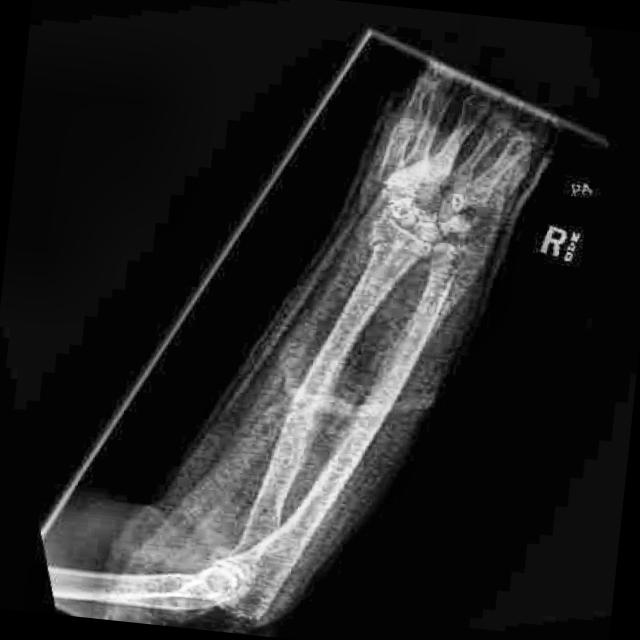forearm fracture: (377, 260, 472, 346)
